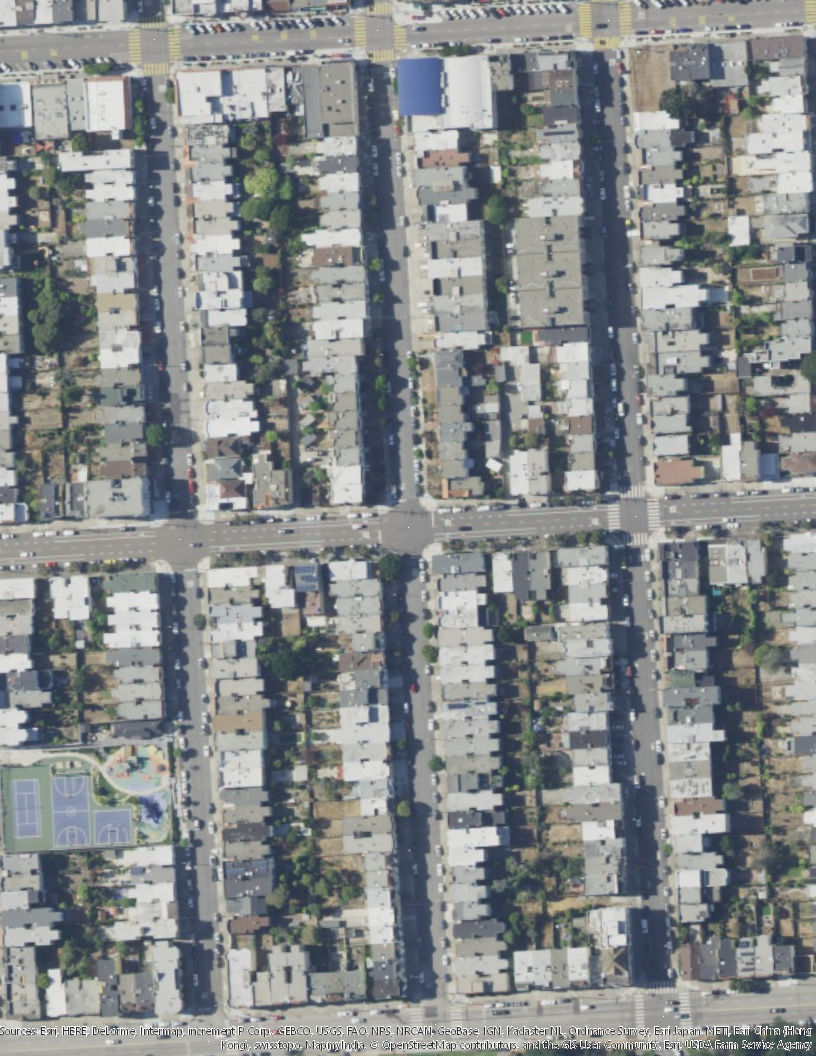zebracross: (577, 2, 593, 39), (127, 29, 143, 65), (617, 1, 633, 37), (167, 26, 182, 62), (679, 992, 693, 1028), (353, 14, 367, 49), (646, 980, 678, 995), (647, 495, 660, 530), (393, 24, 408, 51), (367, 1, 393, 16), (142, 62, 169, 76), (618, 485, 647, 498), (634, 993, 645, 1027), (592, 37, 620, 50), (139, 16, 166, 29), (369, 49, 394, 63), (607, 500, 619, 528), (622, 533, 648, 545), (451, 1007, 463, 1029), (411, 1008, 421, 1025)
